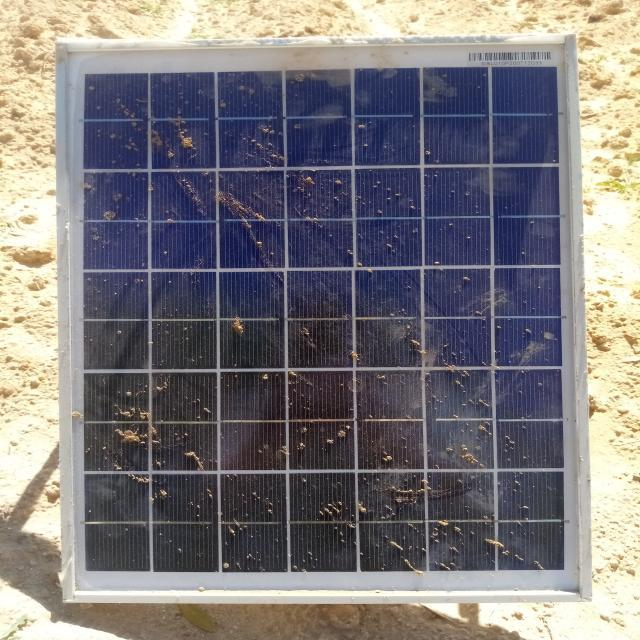faulty: (64, 38, 585, 598)
